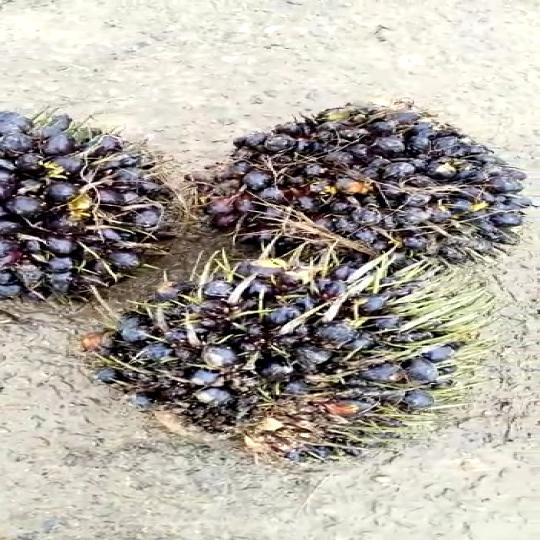mentah: (99, 266, 464, 458), (173, 96, 532, 272), (0, 104, 186, 314)
